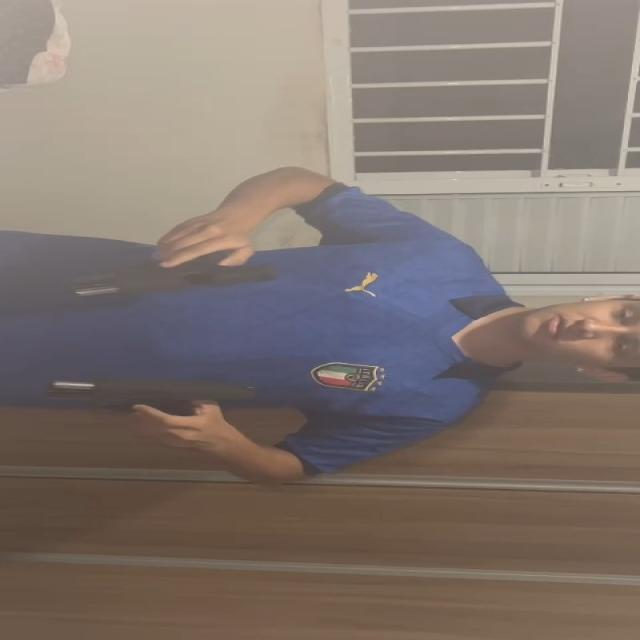gun: (42, 371, 254, 406), (71, 263, 273, 295)
